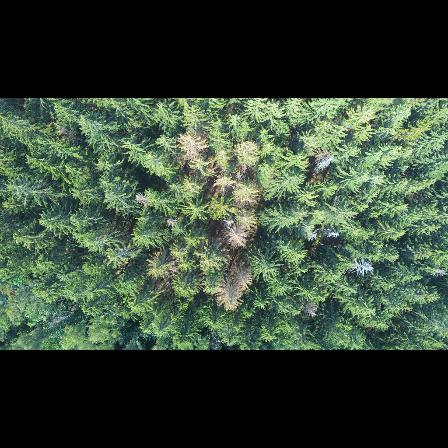Dead: (310, 150, 336, 177), (350, 255, 377, 279), (322, 225, 346, 241), (133, 190, 151, 207), (219, 214, 236, 231)
